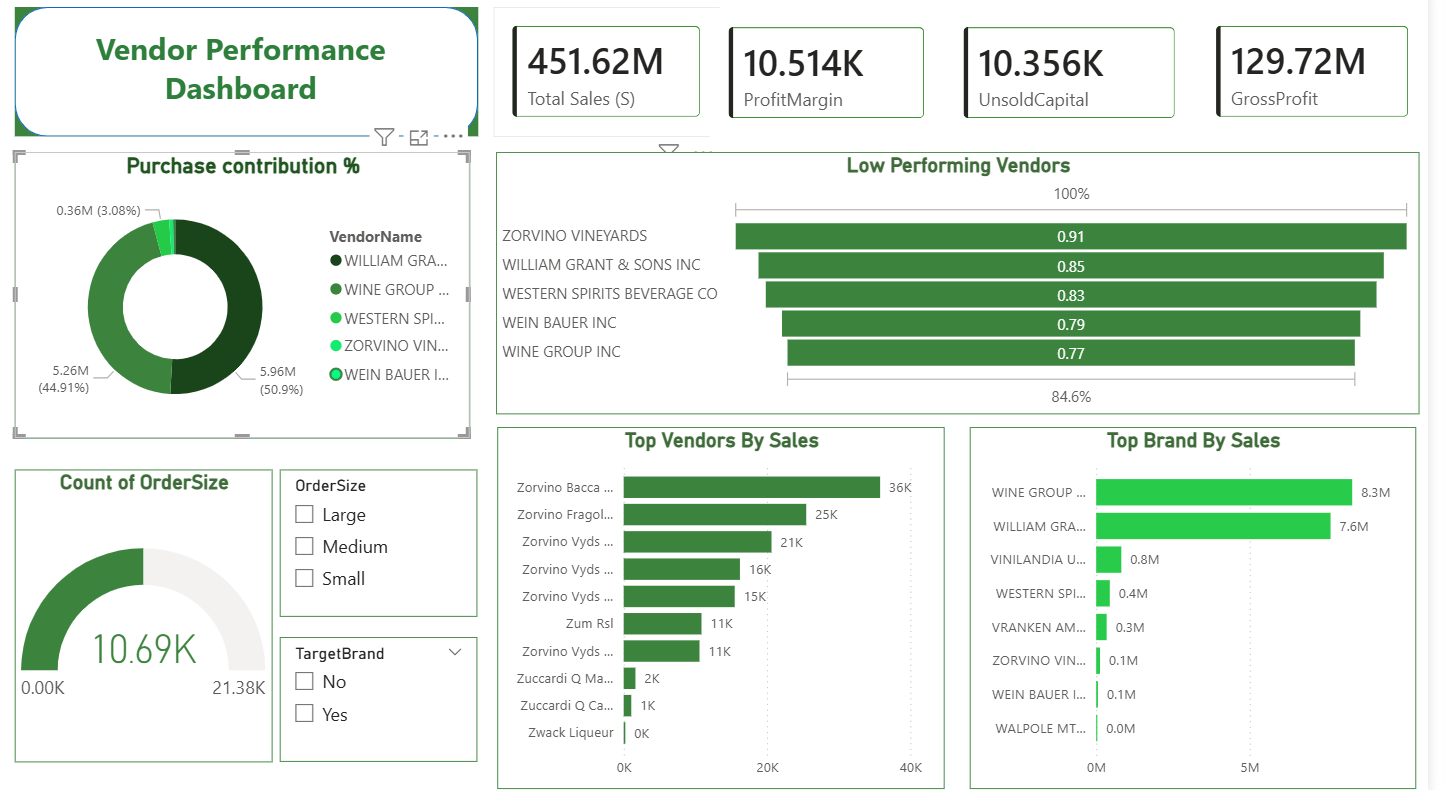

The page's visual inventory and layout, read from the dashboard file:
{"tool":"powerbi","page":{"name":"Page 1","canvas":[1280,720],"ordinal":0},"visuals":[{"type":"cardVisual","fields":{"Data":["Sum(begin_inventory_cleaned.TotalSalesDollars)"]},"box":[447.8,18.3,201.4,115.5],"z":0},{"type":"cardVisual","fields":{"Data":["Sum(begin_inventory_cleaned.GrossProfit)"]},"box":[1074.4,18.3,205.6,115.5],"z":1000},{"type":"cardVisual","fields":{"Data":["CountNonNull(begin_inventory_cleaned.ProfitMargin)"]},"box":[640.1,19,208.9,115.3],"z":2000},{"type":"gauge","fields":{"Y":["CountNonNull(begin_inventory_cleaned.OrderSize)"]},"box":[21.1,429.5,229.5,260.5],"z":3000},{"type":"cardVisual","fields":{"Data":["Count(begin_inventory_cleaned.UnsoldCapital)"]},"box":[848.8,18.6,222.1,115.1],"z":4000},{"type":"clusteredBarChart","title":"Top Brand By Sales","fields":{"Category":["begin_inventory_cleaned.VendorName"],"Y":["Sum(begin_inventory_cleaned.TotalSalesDollars)"]},"box":[872.1,391.9,397.4,322.8],"z":5000},{"type":"donutChart","title":"Purchase contribution %","fields":{"Y":["Sum(PurchaseContribution.TotalPurchaceDollar)"],"Category":["PurchaseContribution.VendorName"]},"box":[21.1,146.4,405.5,254.9],"z":6000},{"type":"clusteredBarChart","title":"Top Vendors By Sales","fields":{"Y":["Sum(begin_inventory_cleaned.TotalSalesDollars)"],"Category":["begin_inventory_cleaned.Description"]},"box":[450.6,391.5,398.5,322.5],"z":7000},{"type":"funnel","title":"Low Performing Vendors","fields":{"Y":["Sum(LowTurnoverVendor.AvgstockTirnOver)"],"Category":["LowTurnoverVendor.VendorName"]},"box":[449.2,146.4,822.4,233.8],"z":8000},{"type":"shape","box":[21.1,18.3,412.6,115.5],"z":9000},{"type":"textbox","box":[85.9,31,273.2,92.9],"z":10000},{"type":"slicer","fields":{"Values":["begin_inventory_cleaned.OrderSize"]},"box":[257.7,429.5,176,131],"z":11000},{"type":"slicer","fields":{"Values":["BrandPerformance.TargetBrand"]},"box":[257.7,578.7,176,111.2],"z":12000}]}

Visuals, with their boxes on the page's 1280x720 design canvas (x1, y1, x2, y2). These are canvas units, not pixel positions in the 1452x790 screenshot, which may show the page scaled, cropped or inside an application window:
cardVisual - Sum(begin_inventory_cleaned.TotalSalesDollars): (left=448, top=18, right=649, bottom=134)
cardVisual - Sum(begin_inventory_cleaned.GrossProfit): (left=1074, top=18, right=1280, bottom=134)
cardVisual - CountNonNull(begin_inventory_cleaned.ProfitMargin): (left=640, top=19, right=849, bottom=134)
gauge - CountNonNull(begin_inventory_cleaned.OrderSize): (left=21, top=430, right=251, bottom=690)
cardVisual - Count(begin_inventory_cleaned.UnsoldCapital): (left=849, top=19, right=1071, bottom=134)
"Top Brand By Sales" clusteredBarChart: (left=872, top=392, right=1270, bottom=715)
"Purchase contribution %" donutChart: (left=21, top=146, right=427, bottom=401)
"Top Vendors By Sales" clusteredBarChart: (left=451, top=392, right=849, bottom=714)
"Low Performing Vendors" funnel: (left=449, top=146, right=1272, bottom=380)
shape: (left=21, top=18, right=434, bottom=134)
textbox: (left=86, top=31, right=359, bottom=124)
slicer - begin_inventory_cleaned.OrderSize: (left=258, top=430, right=434, bottom=560)
slicer - BrandPerformance.TargetBrand: (left=258, top=579, right=434, bottom=690)
